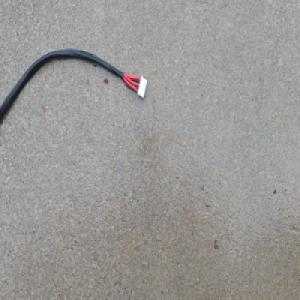Wire: (0, 46, 149, 131)
